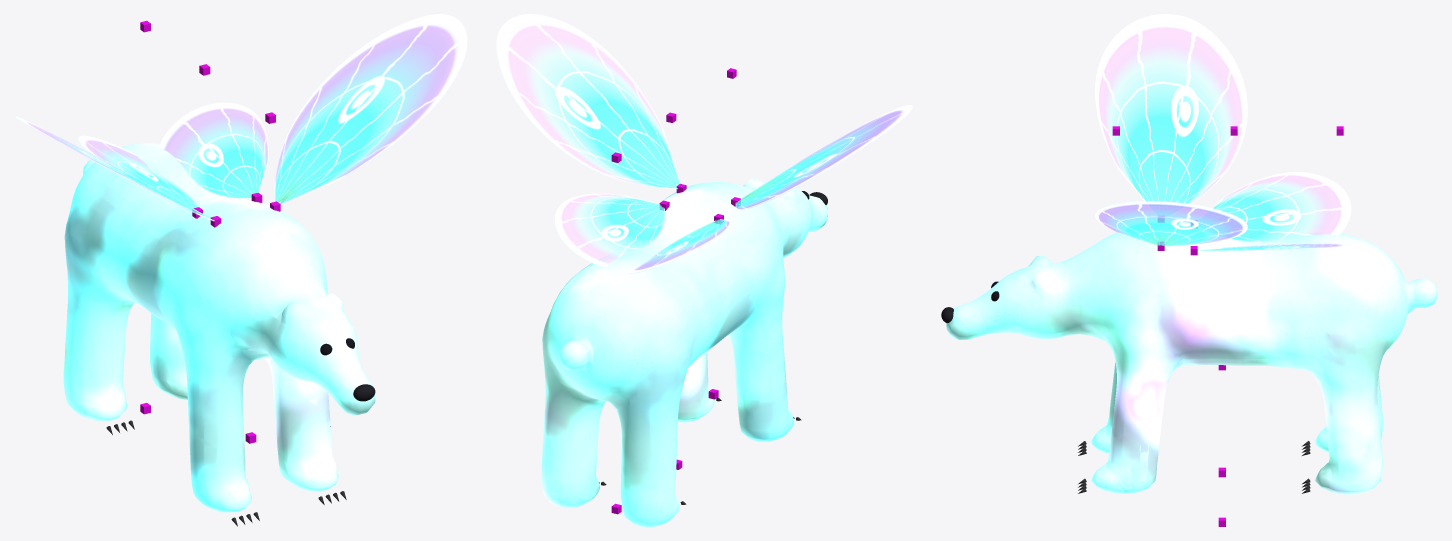
File: 01_orso_aurora.glb
3 views of the same model, side by side, from view 1: azimuth 30°, elevation 25°; view 2: azimuth 150°, elevation 25°; view 3: azimuth 270°, elevation 25° (orthographic). The views are drawn at different scales.
Parts seen in each view (by area): view 1: Orso__Pelliccia_Aurora, Orso__Ali_Aurora__AlaAnt_R, Orso__Ali_Aurora__AlaPost_R, Orso__Ali_Aurora__AlaPost_L, Orso__Ali_Aurora__AlaAnt_L; view 2: Orso__Pelliccia_Aurora, Orso__Ali_Aurora__AlaAnt_R, Orso__Ali_Aurora__AlaPost_R, Orso__Ali_Aurora__AlaAnt_L, Orso__Ali_Aurora__AlaPost_L; view 3: Orso__Pelliccia_Aurora, Orso__Ali_Aurora__AlaAnt_L, Orso__Ali_Aurora__AlaPost_L, Orso__Ali_Aurora__AlaAnt_R, Orso__Ali_Aurora__AlaPost_R.
Boxes of the visible parts, left/top/right/bottom form: Orso__Pelliccia_Aurora: left=63, top=143, right=375, bottom=512; Orso__Ali_Aurora__AlaAnt_R: left=274, top=14, right=467, bottom=204; Orso__Ali_Aurora__AlaPost_R: left=159, top=102, right=268, bottom=198; Orso__Ali_Aurora__AlaPost_L: left=78, top=135, right=197, bottom=209; Orso__Ali_Aurora__AlaAnt_L: left=14, top=116, right=214, bottom=221; Orso__Pelliccia_Aurora: left=541, top=177, right=827, bottom=526; Orso__Ali_Aurora__AlaAnt_R: left=496, top=14, right=679, bottom=189; Orso__Ali_Aurora__AlaPost_R: left=554, top=193, right=664, bottom=267; Orso__Ali_Aurora__AlaAnt_L: left=735, top=105, right=912, bottom=210; Orso__Ali_Aurora__AlaPost_L: left=629, top=219, right=730, bottom=273; Orso__Pelliccia_Aurora: left=946, top=223, right=1437, bottom=494; Orso__Ali_Aurora__AlaAnt_L: left=1095, top=14, right=1247, bottom=217; Orso__Ali_Aurora__AlaPost_L: left=1198, top=172, right=1351, bottom=241; Orso__Ali_Aurora__AlaAnt_R: left=1095, top=201, right=1247, bottom=246; Orso__Ali_Aurora__AlaPost_R: left=1197, top=243, right=1351, bottom=250.
Bounding box in the file's own units: 5.67 × 5.17 × 6.32.
6 materials, 2 textured.
